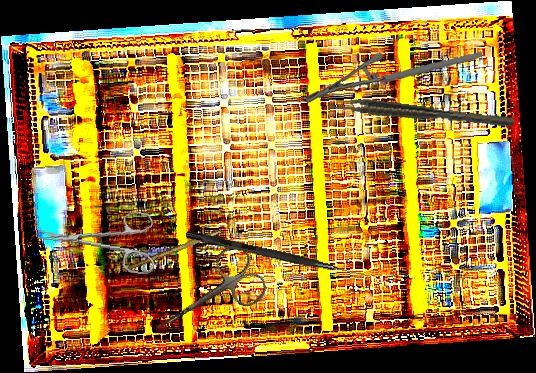Hook Surgical: (185, 230, 372, 280)
Iris Scissors: (140, 240, 273, 354), (33, 201, 160, 276)
Needle Holder: (305, 35, 483, 120)
Scalpel Handle: (121, 226, 223, 275)
Tissue Forceps: (327, 94, 515, 133)
